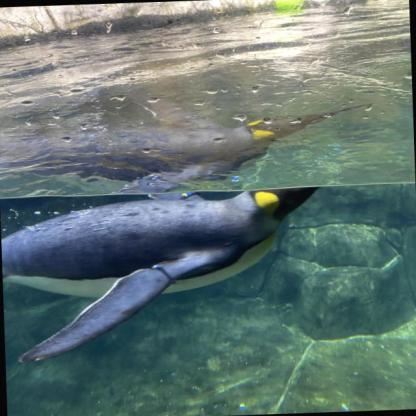penguin: (0, 169, 330, 367)
